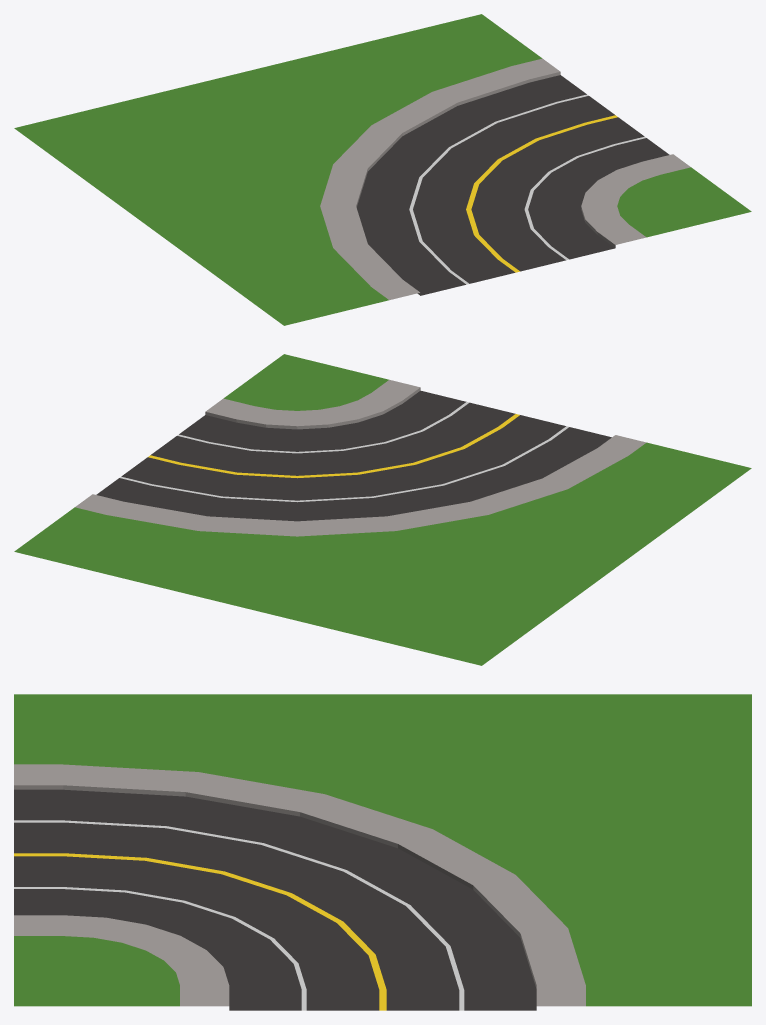
File: tiles-nb_tile-mainroad-curve-nb.fbx
3 renders of one model, top to bottom at view 1: azimuth 30°, elevation 25°; view 2: azimuth 150°, elevation 25°; view 3: azimuth 270°, elevation 25°, orthographic. The views are drawn at different scales.
Parts seen in each view (by area): view 1: tiles_nb_tile_mainroad_curve_nb; view 2: tiles_nb_tile_mainroad_curve_nb; view 3: tiles_nb_tile_mainroad_curve_nb.
Boxes of the visible parts, box(x1,y1,x2,y2) form: tiles_nb_tile_mainroad_curve_nb: box(14, 14, 751, 325); tiles_nb_tile_mainroad_curve_nb: box(14, 354, 751, 665); tiles_nb_tile_mainroad_curve_nb: box(14, 694, 751, 1010).
Size of the model in its own units: 200 by 1.33 by 200.
